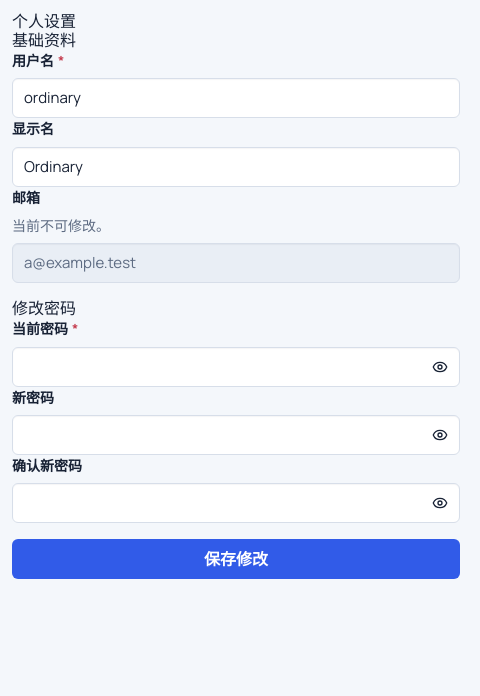
Test: 个人设置提交交互 › 成功后清空密码并显示成功反馈
Type "correct-123" into the password field labelled "当前密码*" at (236, 367), box x1=12 y1=347 x2=460 y2=387
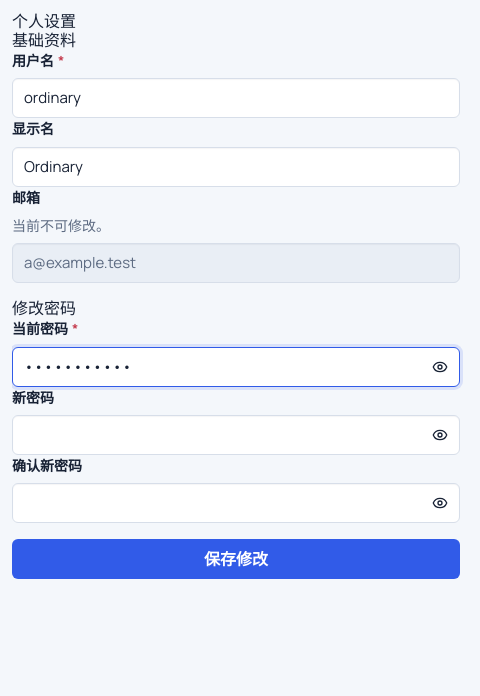
Click the button "保存修改" at (236, 559), box x1=12 y1=539 x2=460 y2=579
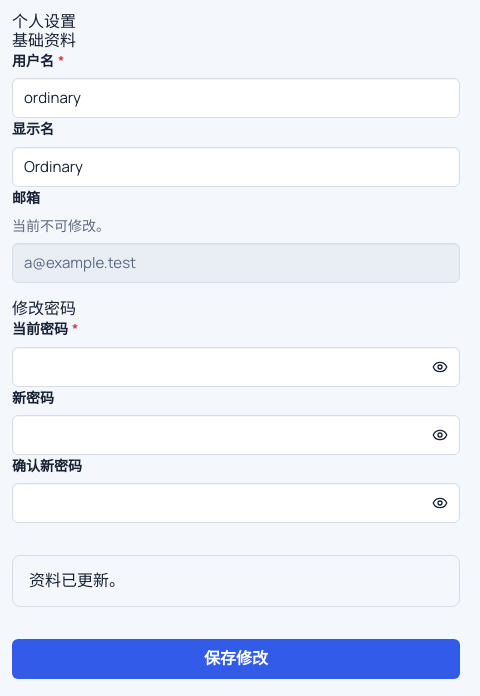
expect the text "资料已更新。" is shown: met, box x1=29 y1=569 x2=125 y2=591
expect the password field labelled "当前密码*" is empty: met, box x1=12 y1=347 x2=460 y2=387
